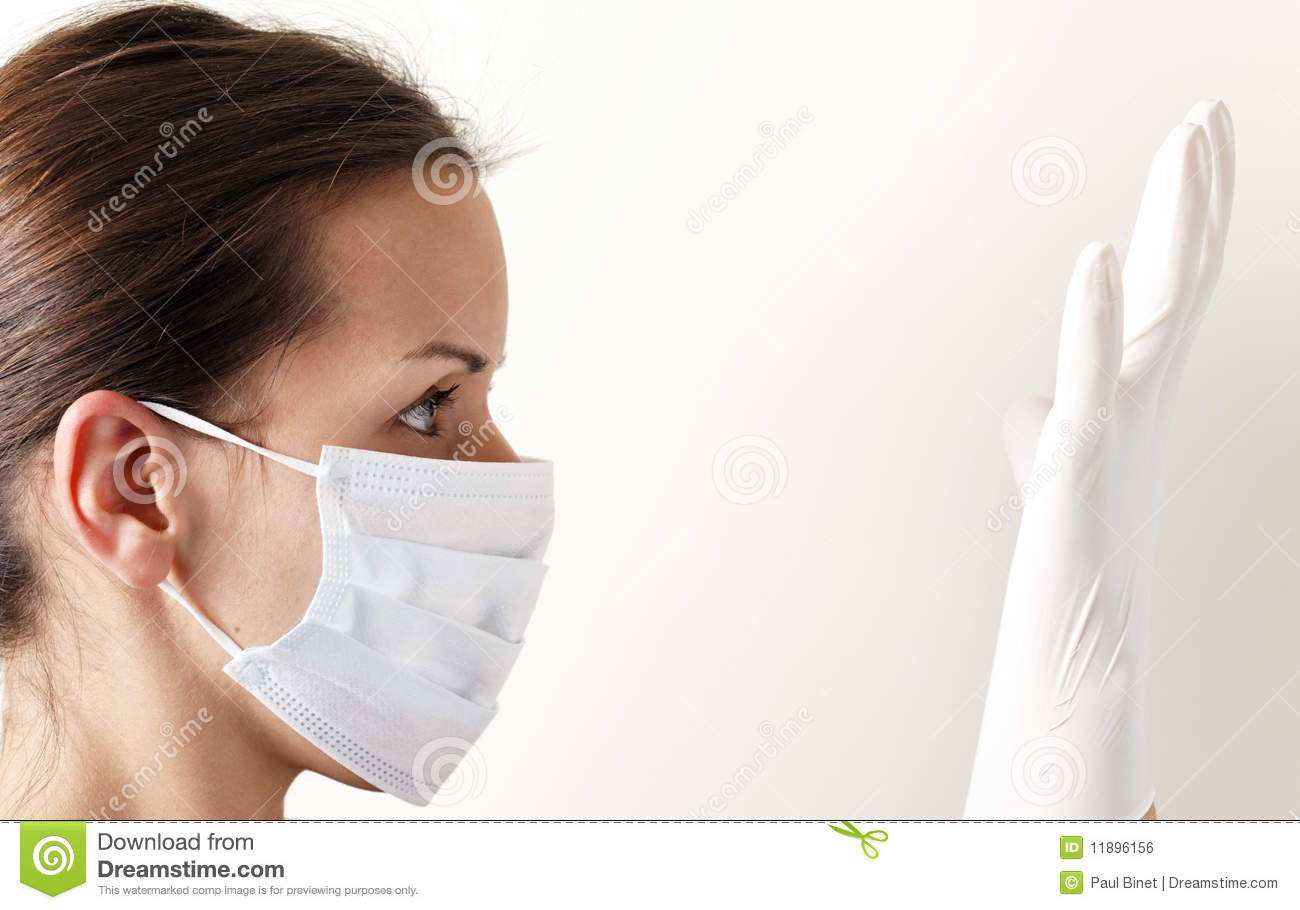mask: (222, 443, 554, 804)
